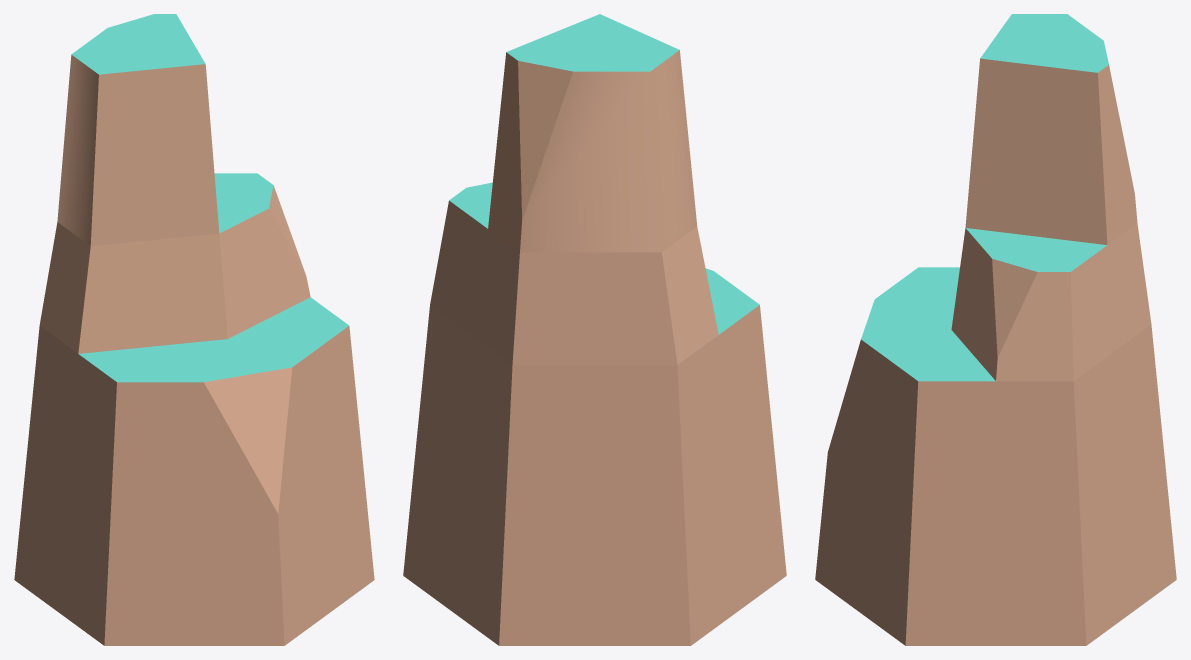
The model's file is rock_tallG.gltf.
3 views of the same model, side by side, from view 1: azimuth 30°, elevation 25°; view 2: azimuth 150°, elevation 25°; view 3: azimuth 270°, elevation 25° (orthographic). The views are drawn at different scales.
Visible parts, largest first — view 1: rock_tallG; view 2: rock_tallG; view 3: rock_tallG.
Boxes of the visible parts, left/top/right/bottom form: rock_tallG: left=14, top=14, right=374, bottom=645; rock_tallG: left=403, top=14, right=786, bottom=645; rock_tallG: left=815, top=14, right=1176, bottom=645.
Bounding box in the file's own units: 0.4249 × 0.7829 × 0.4907.
